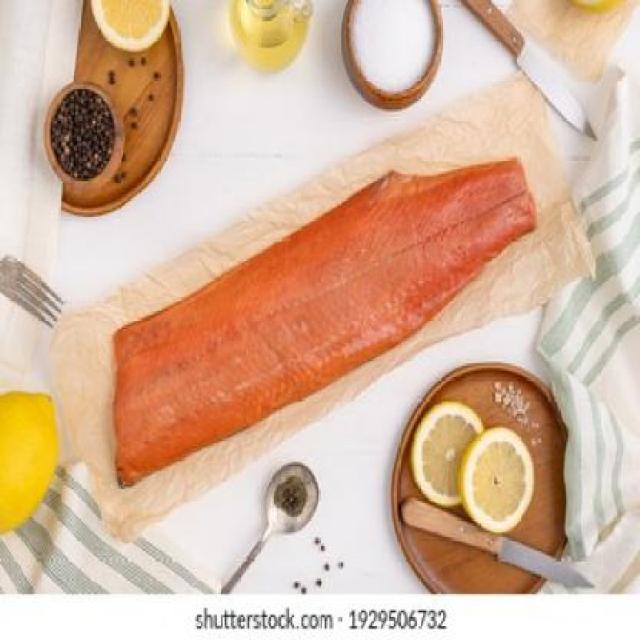salmon: (85, 131, 536, 501)
